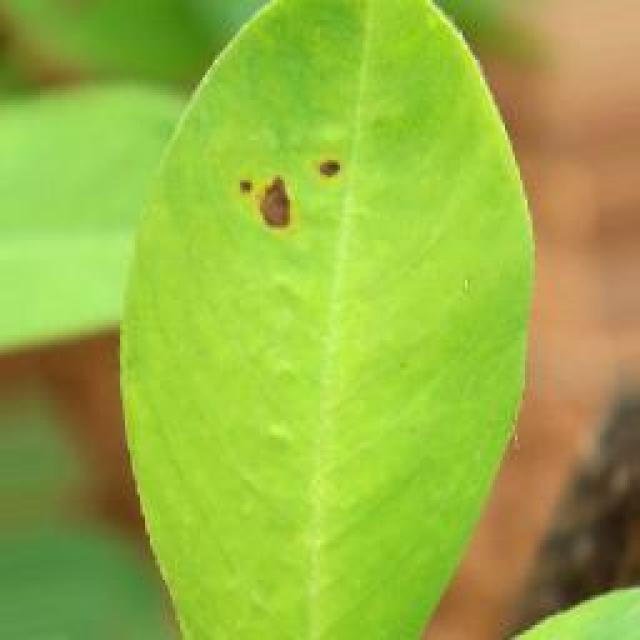Sigatoka: (211, 143, 377, 254)
